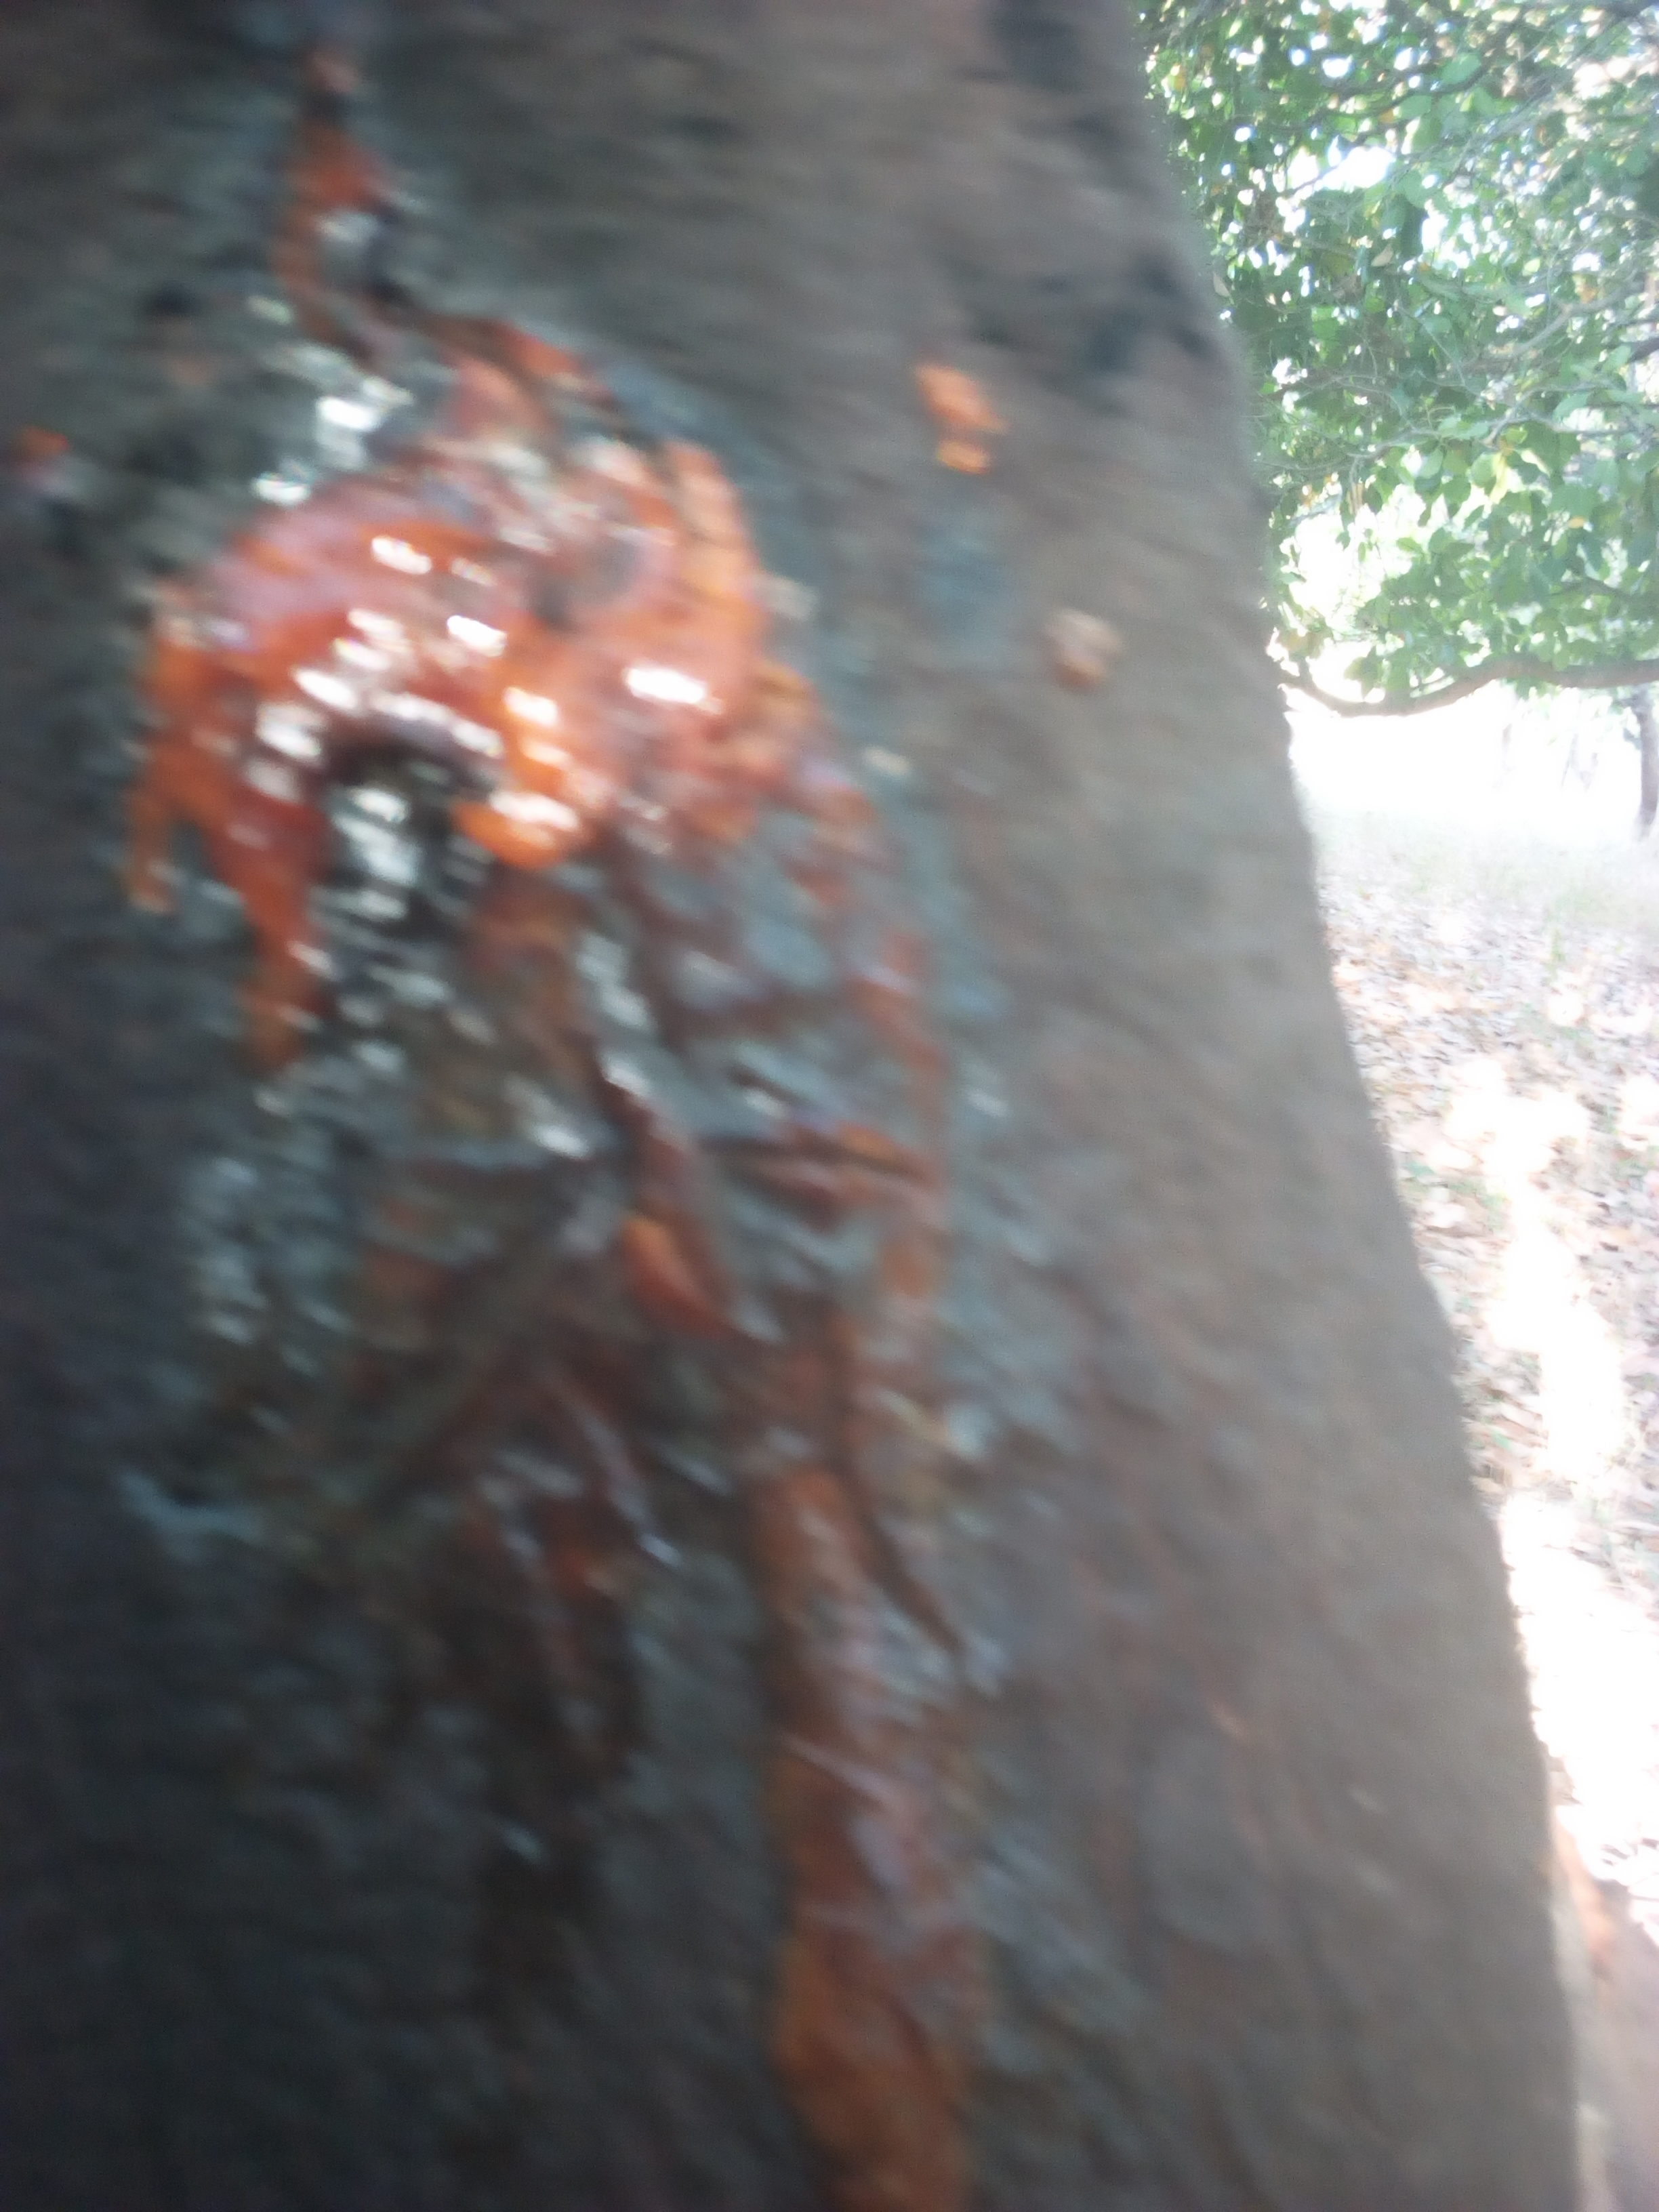Gommose: (145, 185, 1056, 2174)
